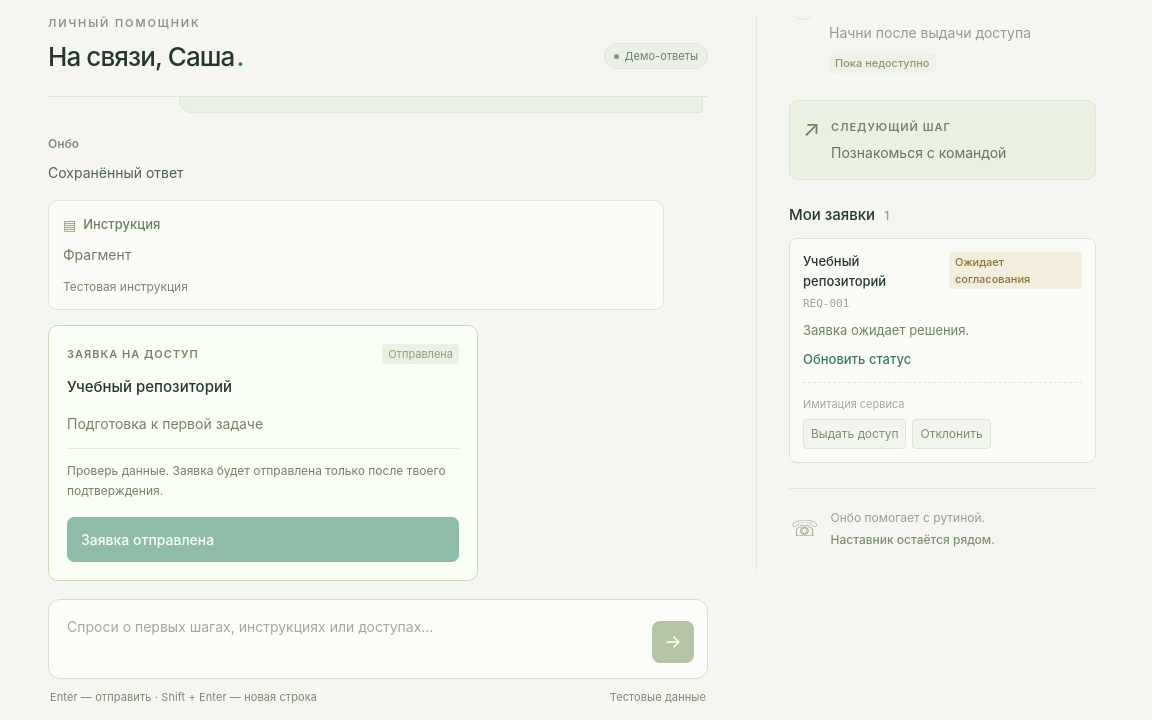
it: Onbo workspace › loads persisted history, refreshes status and supports a simulated rejection
This screenshot has width=1152, height=720.
(page scrolled)
Expected: the heading "На связи, Саша." is shown, [48,40,243,73]
Expected: the text "Тестовая инструкция" is shown, [63,279,188,294]
Click the button "Обновить статус": x=857, y=360 [803,350,911,370]
(page scrolled)
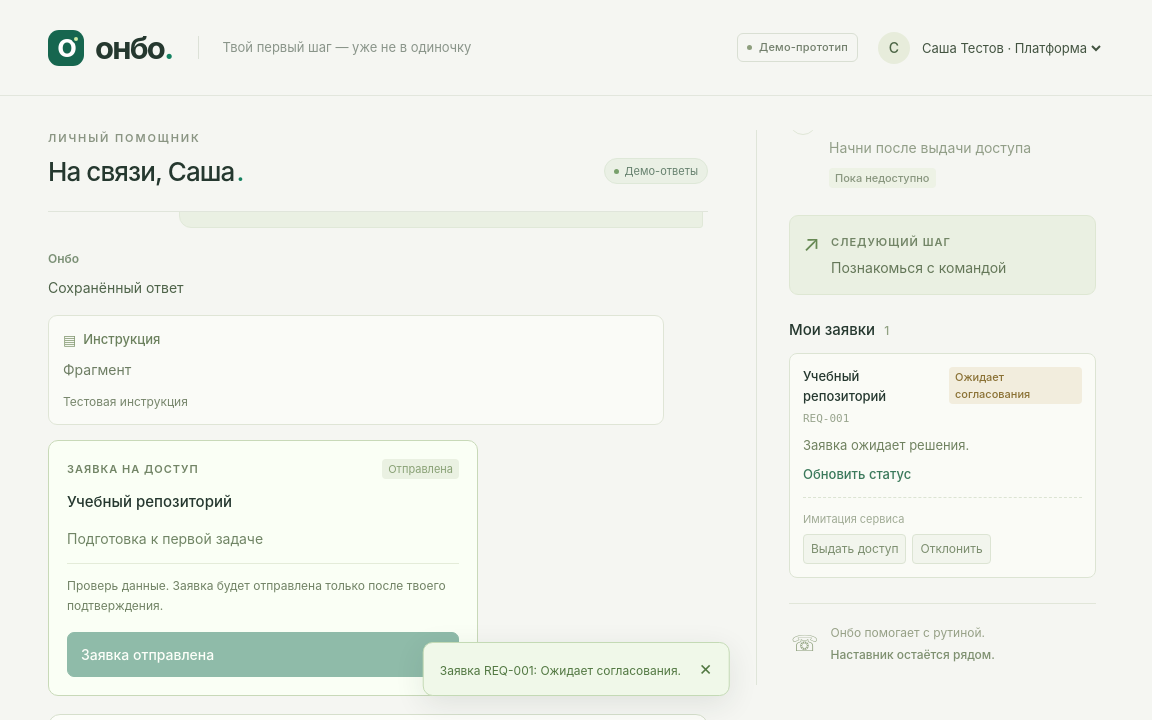
Click the button "Отклонить": x=952, y=549 [912,534,991,564]
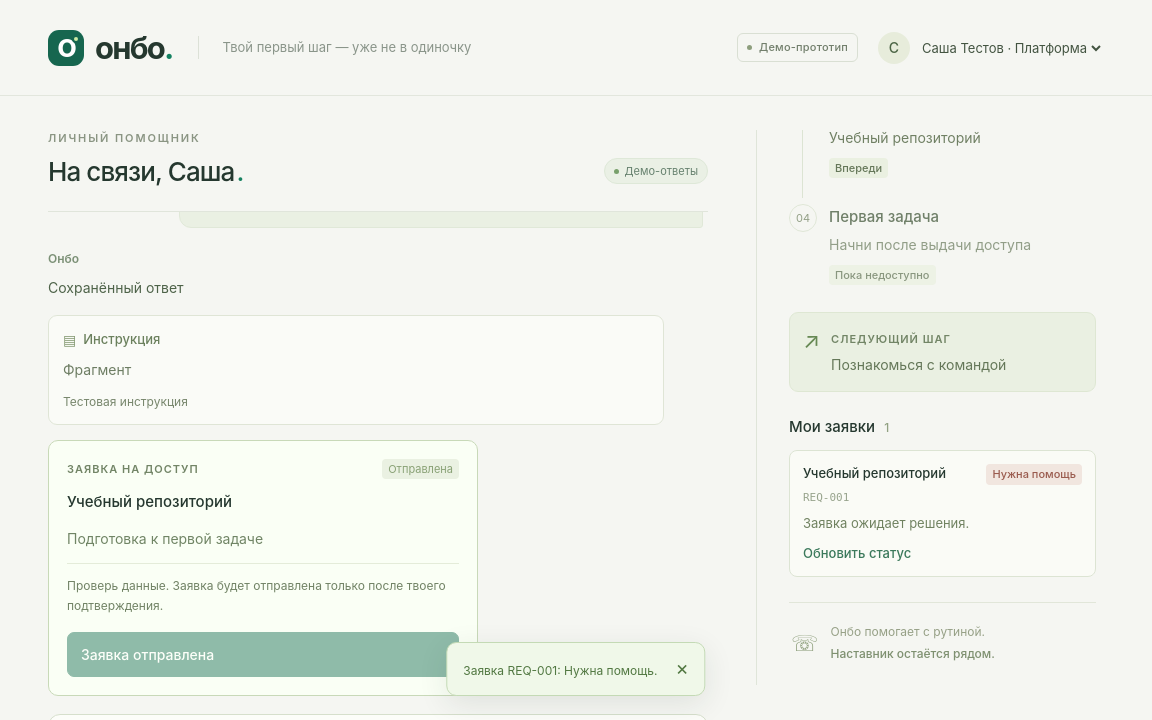
Now the text "Нужна помощь" is shown, box [986,464,1082,485]
